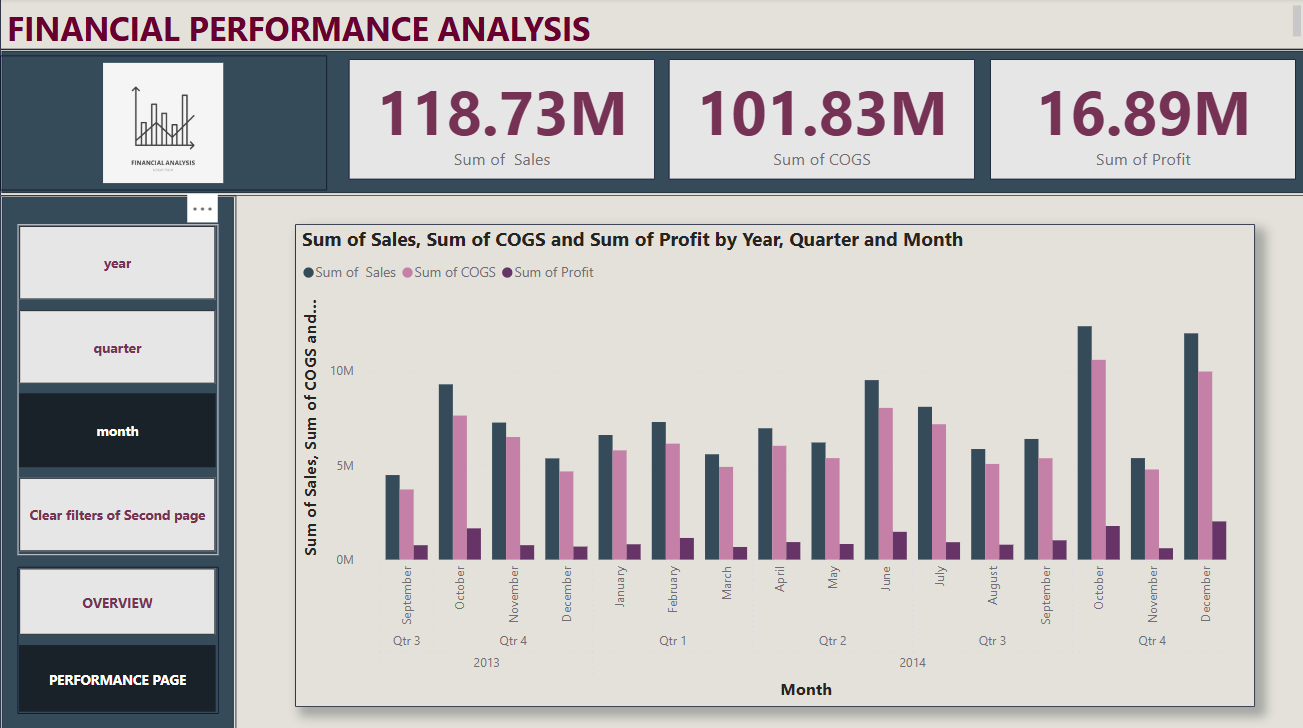

This screenshot's page, from the dashboard's own definition file:
{"tool":"powerbi","page":{"name":"PERFORMANCE PAGE","canvas":[1280,720],"ordinal":1},"visuals":[{"type":"clusteredColumnChart","fields":{"Y":["Sum(financials (2). Sales)","Sum(financials (2).COGS)","Sum(financials (2).Profit)"],"Category":["calender(finanacial).Date.Variation.Date Hierarchy.Year","calender(finanacial).Date.Variation.Date Hierarchy.Quarter","calender(finanacial).Date.Variation.Date Hierarchy.Month"]},"box":[288.6,221.3,939.1,472],"z":0},{"type":"textbox","box":[0,0,1280.3,50.1],"z":1000},{"type":"shape","box":[0,50.1,1280.3,143.1],"z":2000},{"type":"image","box":[0,56.3,320.4,132.1],"z":3000},{"type":"shape","box":[0,193.2,231.1,527],"z":4000},{"type":"pageNavigator","box":[17.1,556.4,196.9,144.3],"z":5000},{"type":"bookmarkNavigator","box":[17.1,221.3,196.9,324.1],"z":6000},{"type":"card","fields":{"Values":["Sum(financials (2). Sales)"]},"box":[341.2,59.9,299.6,117.4],"z":7000},{"type":"card","fields":{"Values":["Sum(financials (2).Profit)"]},"box":[968.5,59.9,299.6,117.4],"z":8000},{"type":"card","fields":{"Values":["Sum(financials (2).COGS)"]},"box":[654.2,59.9,299.6,117.4],"z":9000}]}

Visuals, with their boxes on the page's 1280x720 design canvas (x1, y1, x2, y2). These are canvas units, not pixel positions in the 1303x728 screenshot, which may show the page scaled, cropped or inside an application window:
clusteredColumnChart - Sum(financials (2). Sales) x Sum(financials (2).COGS): locate(289, 221, 1228, 693)
textbox: locate(0, 0, 1280, 50)
shape: locate(0, 50, 1280, 193)
image: locate(0, 56, 320, 188)
shape: locate(0, 193, 231, 720)
pageNavigator: locate(17, 556, 214, 701)
bookmarkNavigator: locate(17, 221, 214, 545)
card - Sum(financials (2). Sales): locate(341, 60, 641, 177)
card - Sum(financials (2).Profit): locate(968, 60, 1268, 177)
card - Sum(financials (2).COGS): locate(654, 60, 954, 177)
